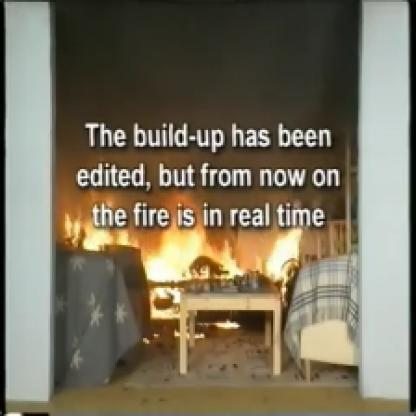fire: (54, 209, 239, 284), (250, 217, 326, 290), (154, 304, 251, 346)
